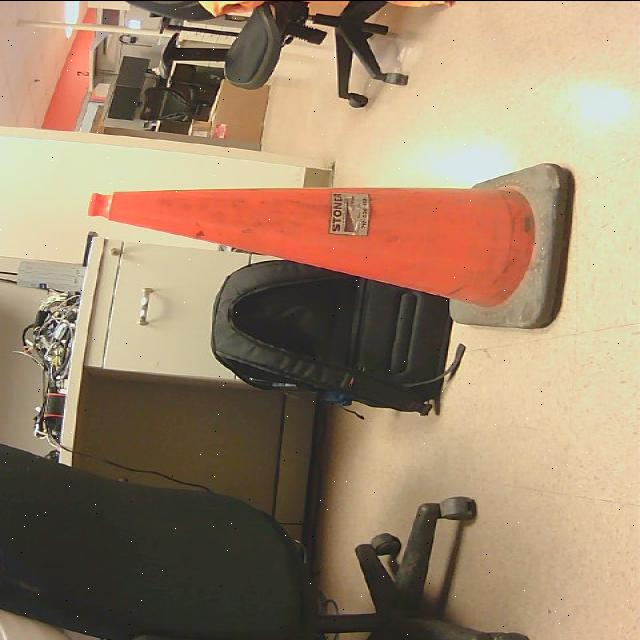traffic cone: (88, 162, 580, 330)
